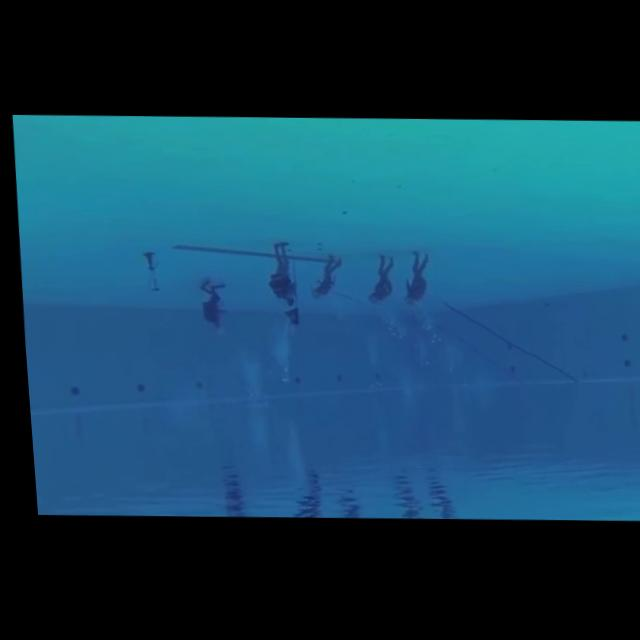human: (255, 239, 299, 311), (390, 248, 431, 315), (356, 249, 396, 311), (301, 249, 343, 308), (190, 273, 227, 337)
